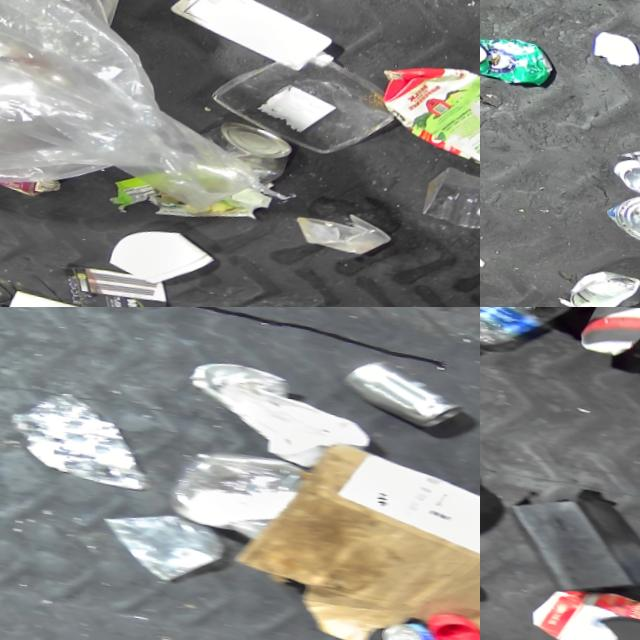can: (336, 345, 462, 431), (191, 112, 290, 190), (480, 25, 553, 88), (558, 260, 640, 307), (372, 612, 480, 640), (599, 184, 640, 249), (606, 133, 640, 209)
milk_jug: (161, 0, 342, 76)
non_white_jug: (361, 49, 480, 168)
plastic_bottle: (480, 307, 578, 374)
